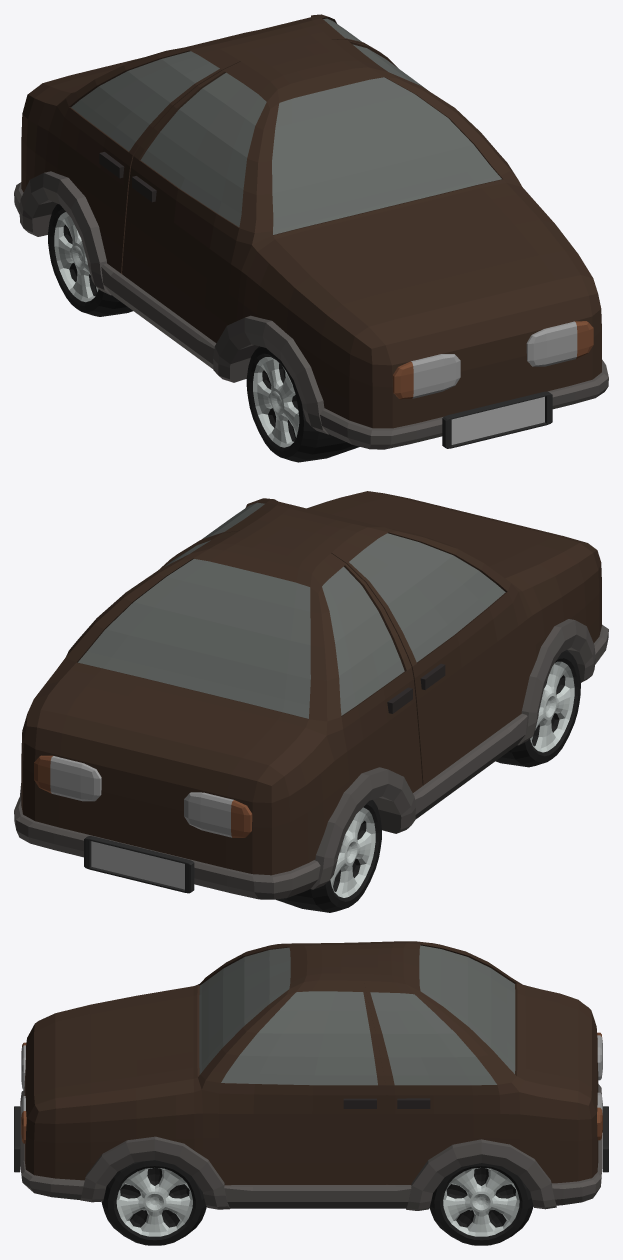
File: car3-3 (1).fbx
The picture shows the model from 3 angles, top to bottom: view 1: azimuth 30°, elevation 25°; view 2: azimuth 150°, elevation 25°; view 3: azimuth 270°, elevation 25°; orthographic projection. The views are drawn at different scales.
Visible parts, largest first — view 1: Cube, Cylinder.010, Cylinder.006, Cylinder.007, Cylinder.011, Cube.001, Cube.004, Cube.003; view 2: Cube, Cylinder.007, Cylinder.011, Cylinder.010, Cube.002, Cylinder.006, Cube.006, Cube.005; view 3: Cube, Cylinder.008, Cylinder.009, Cylinder.005, Cylinder.004, Cube.001, Cube.002.
Part boxes in pixels (<box>): Cube: <box>14,14,608,449</box>; Cylinder.010: <box>246,346,359,462</box>; Cylinder.006: <box>213,315,328,434</box>; Cylinder.007: <box>19,171,111,295</box>; Cylinder.011: <box>48,204,132,316</box>; Cube.001: <box>442,391,552,448</box>; Cube.004: <box>392,354,460,399</box>; Cube.003: <box>526,321,593,366</box>; Cube: <box>14,491,608,899</box>; Cylinder.007: <box>311,767,415,889</box>; Cylinder.011: <box>276,800,381,912</box>; Cylinder.010: <box>495,650,580,767</box>; Cube.002: <box>84,836,194,893</box>; Cylinder.006: <box>517,619,595,745</box>; Cube.006: <box>184,792,252,837</box>; Cube.005: <box>34,755,101,801</box>; Cube: <box>20,941,602,1208</box>; Cylinder.008: <box>101,1160,206,1245</box>; Cylinder.009: <box>429,1163,533,1245</box>; Cylinder.005: <box>406,1139,556,1210</box>; Cylinder.004: <box>80,1136,229,1209</box>; Cube.001: <box>14,1106,20,1172</box>; Cube.002: <box>602,1106,608,1172</box>.
Bounding box in the file's own units: 453 × 389 × 888.
